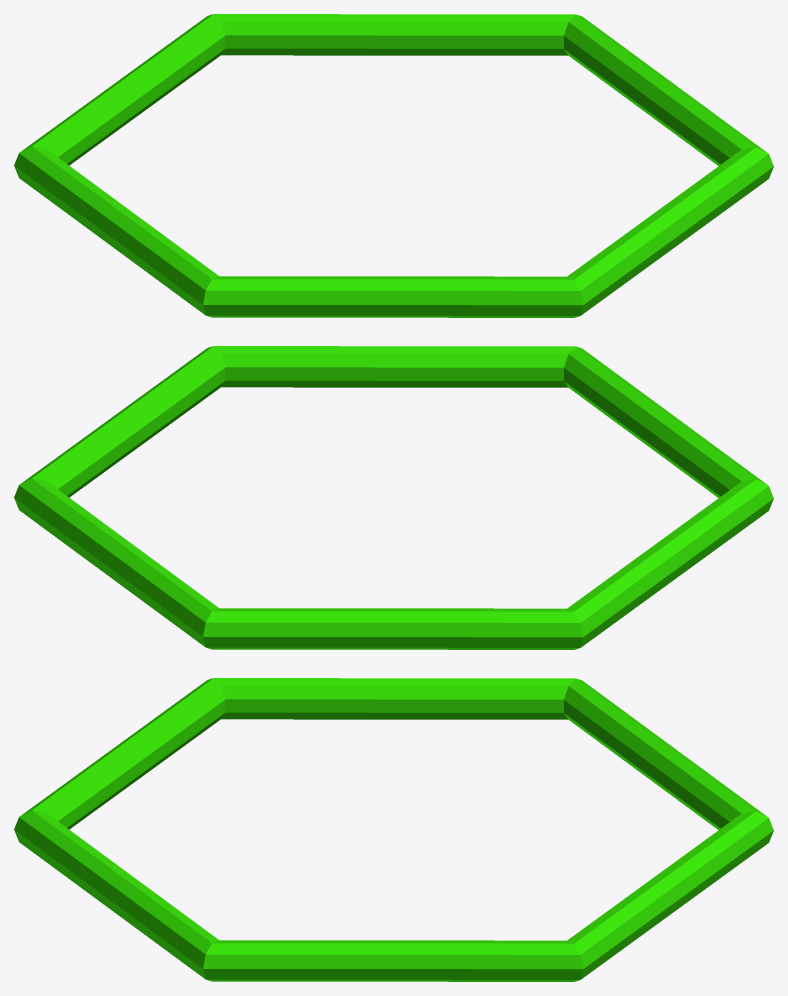
3 views of the same model, one above another, from view 1: azimuth 30°, elevation 25°; view 2: azimuth 150°, elevation 25°; view 3: azimuth 270°, elevation 25° (orthographic).
Visible parts, largest first — view 1: Torus; view 2: Torus; view 3: Torus.
Part boxes in pixels (x1,y1,x2,y2): Torus: (14,14,773,317); Torus: (14,346,773,649); Torus: (14,678,773,981).
Size of the model in its own units: 184 by 11.82 by 212.
